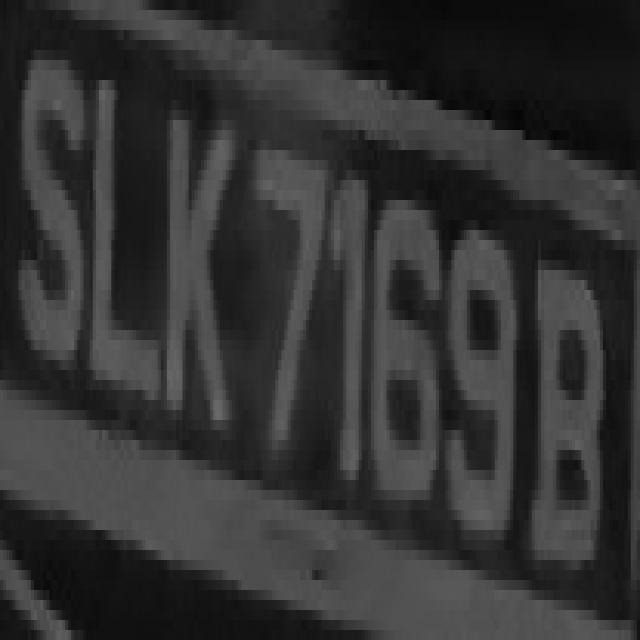1: (325, 90, 371, 580)
6: (368, 140, 445, 560)
7: (247, 100, 325, 540)
9: (439, 160, 519, 580)
B: (526, 210, 618, 630)
K: (151, 80, 235, 490)
L: (93, 50, 161, 450)
S: (15, 40, 80, 380)
